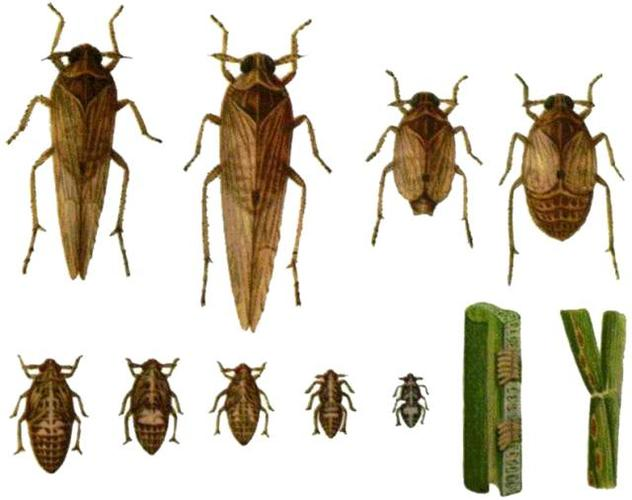Delphacidae: (182, 15, 332, 334), (6, 4, 163, 280), (498, 73, 625, 287), (366, 69, 484, 248), (9, 354, 89, 475), (118, 357, 183, 456), (208, 360, 275, 446), (304, 369, 357, 438), (391, 373, 431, 427)
